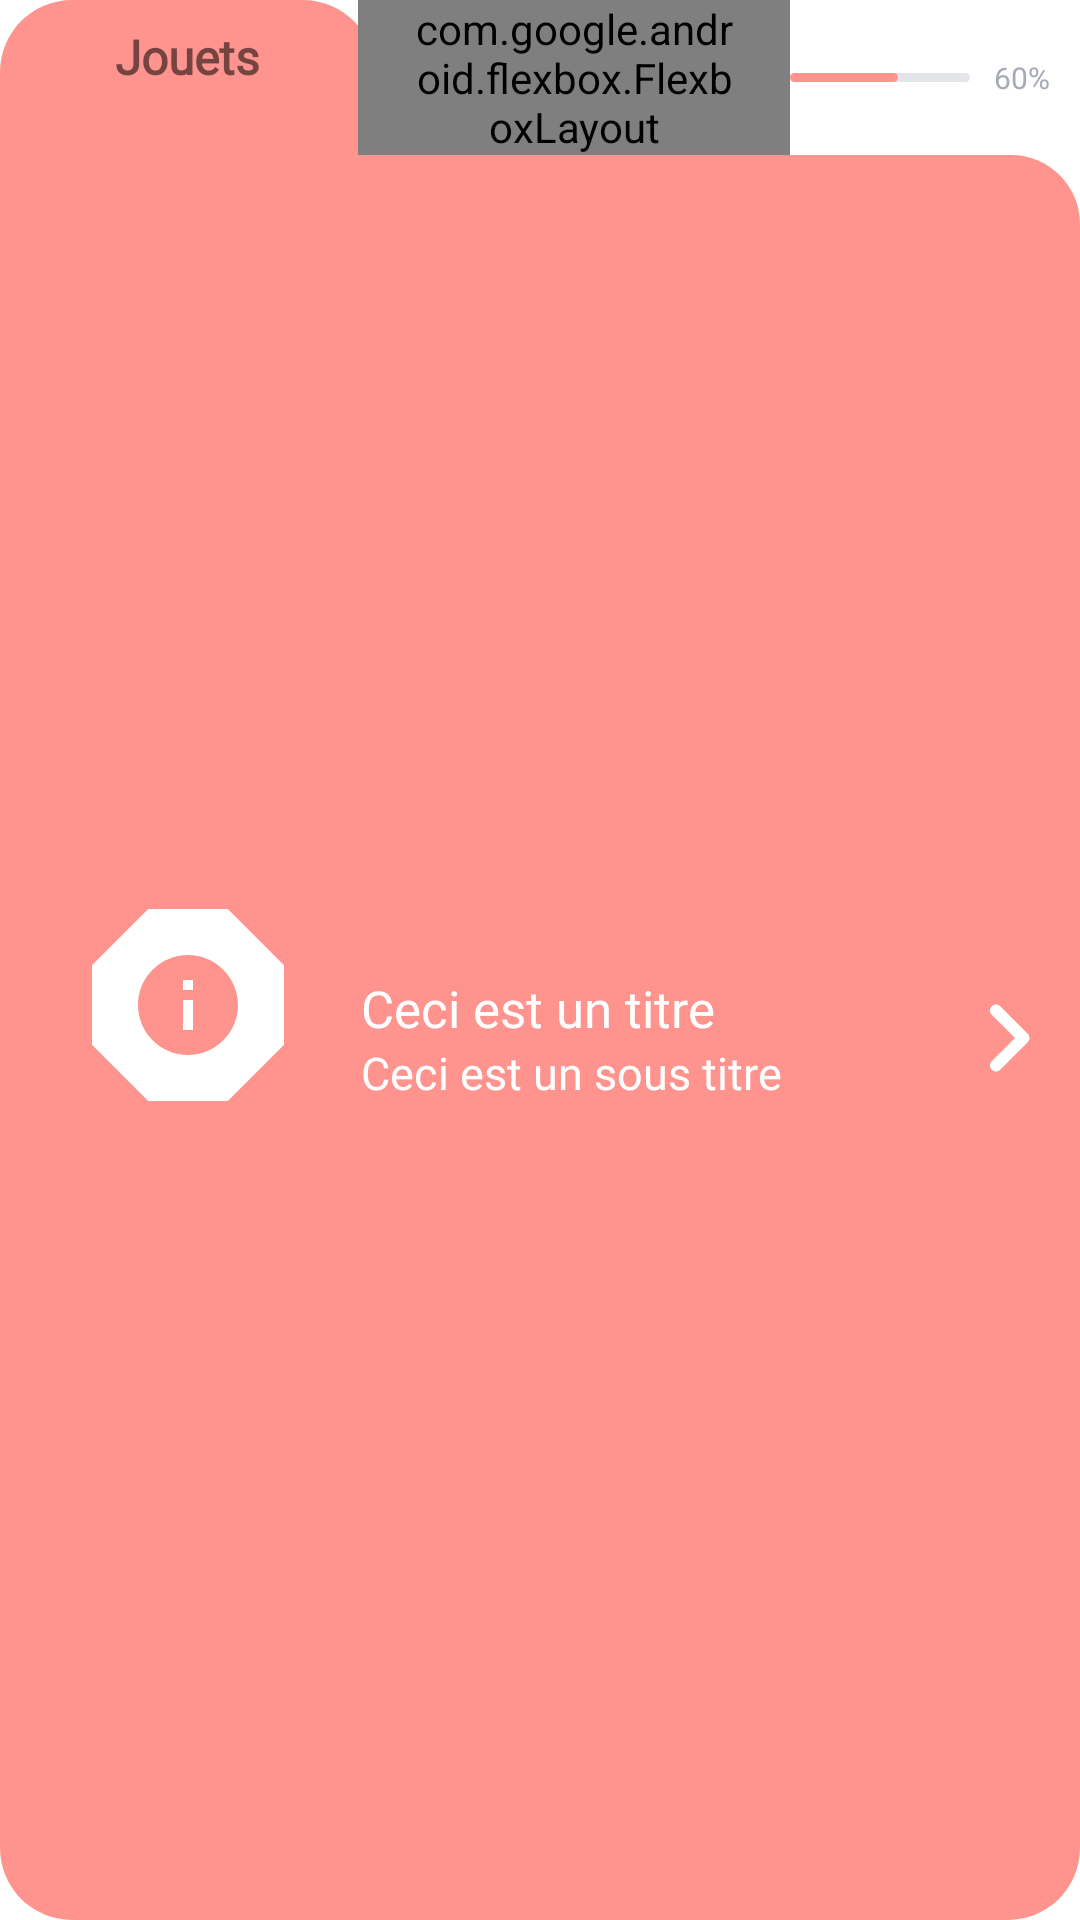

Icons on this 1080*1920 Android screen, each with its box as {"left": x1, "top": y1, "right": x2, "bottom": y2}:
alert chevron: {"left": 990, "top": 1004, "right": 1030, "bottom": 1072}
alert info: {"left": 92, "top": 909, "right": 284, "bottom": 1101}
